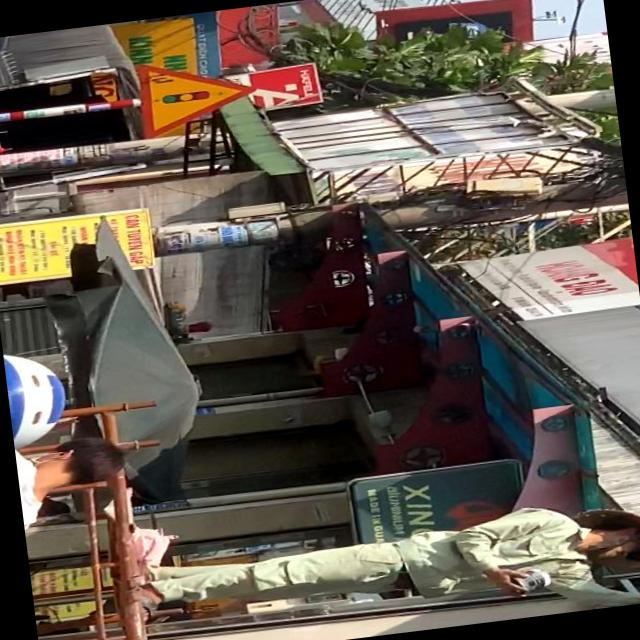W-209: (136, 49, 258, 138)
